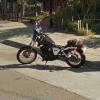Motorcycle: (10, 21, 88, 75)
